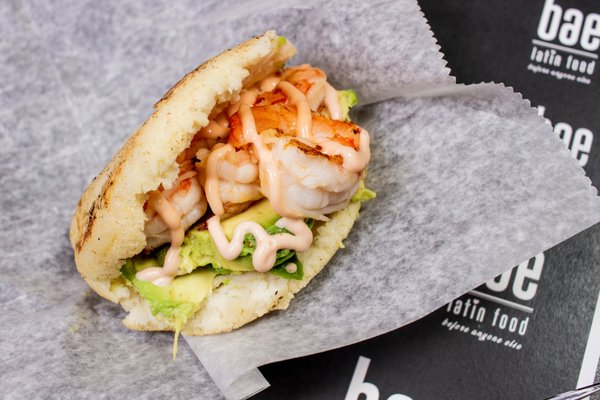soup: (68, 32, 378, 337)
